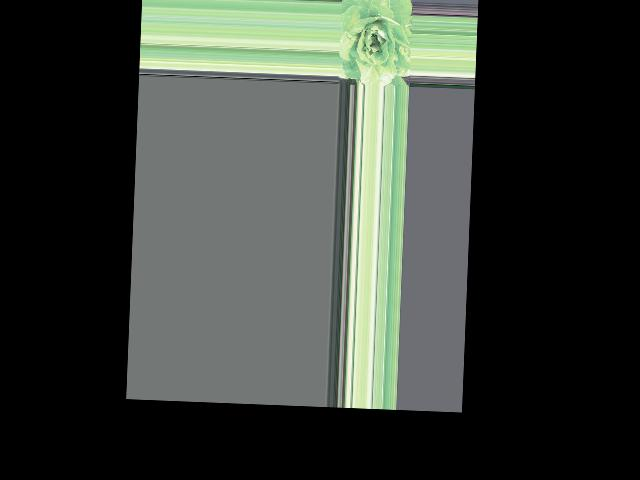lettuce: (340, 0, 413, 83)
